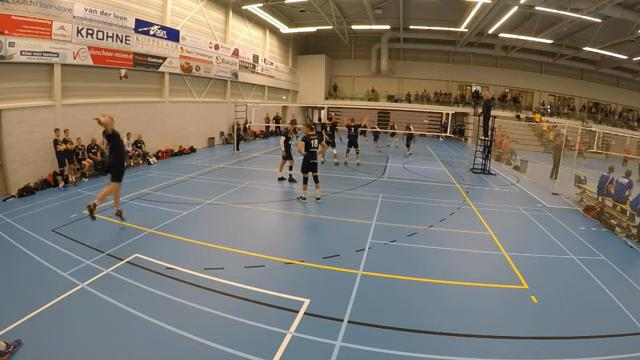Player: (297, 124, 326, 202), (345, 117, 367, 164), (278, 127, 296, 182), (325, 116, 338, 164), (405, 123, 415, 155), (387, 122, 398, 147), (372, 125, 381, 151), (289, 116, 298, 139), (360, 124, 367, 141), (318, 151, 324, 162)
Serve: (85, 109, 128, 224)
ball: (117, 67, 130, 84)
